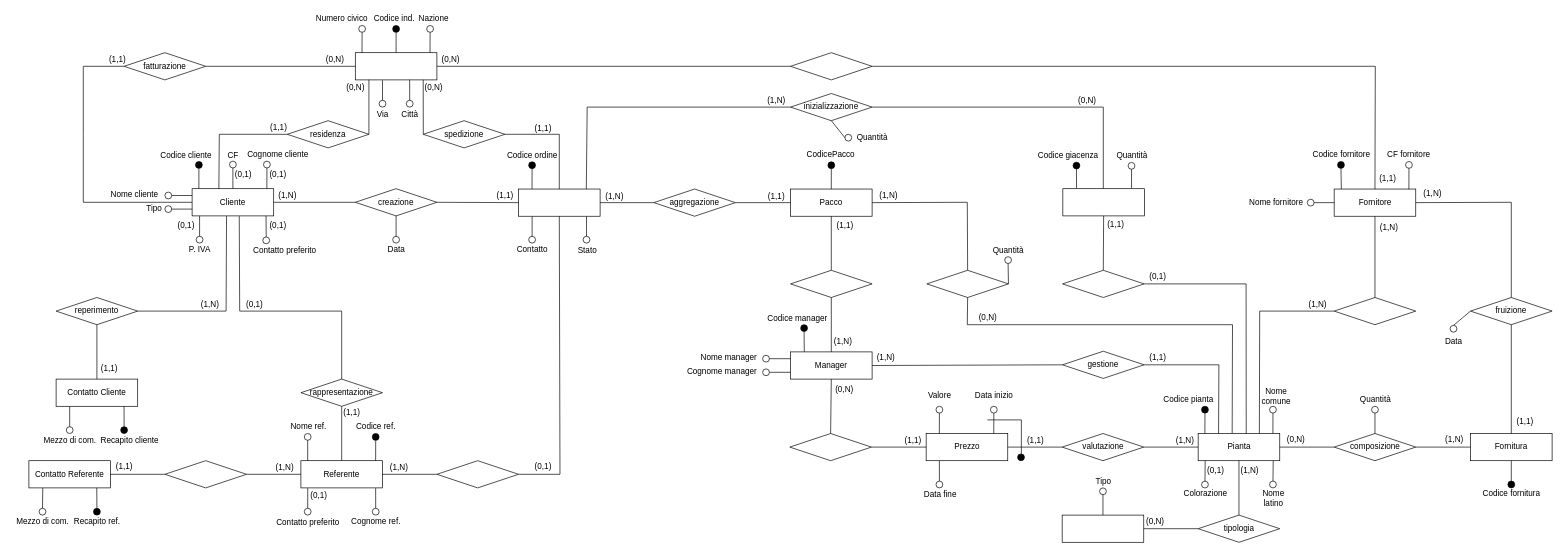
Image size: 1564x554. Some labels were removed from this diagram. Each missing label, with the centre of its shape:
"decisione" goes at pixel 830 447.
"Giacenza" goes at pixel 1103 202.
"immissione" goes at pixel 967 284.
"Indirizzo" goes at pixel 396 66.
"Ordine" goes at pixel 559 202.
"raggiungimento" goes at pixel 205 474.
"realizzazione" goes at pixel 831 284.
"sede" goes at pixel 831 66.
"stoccaggio" goes at pixel 1103 284.
"supervisione" goes at pixel 477 474.
"TipoPianta" goes at pixel 1102 528.
"trattazione" goes at pixel 1374 311.
